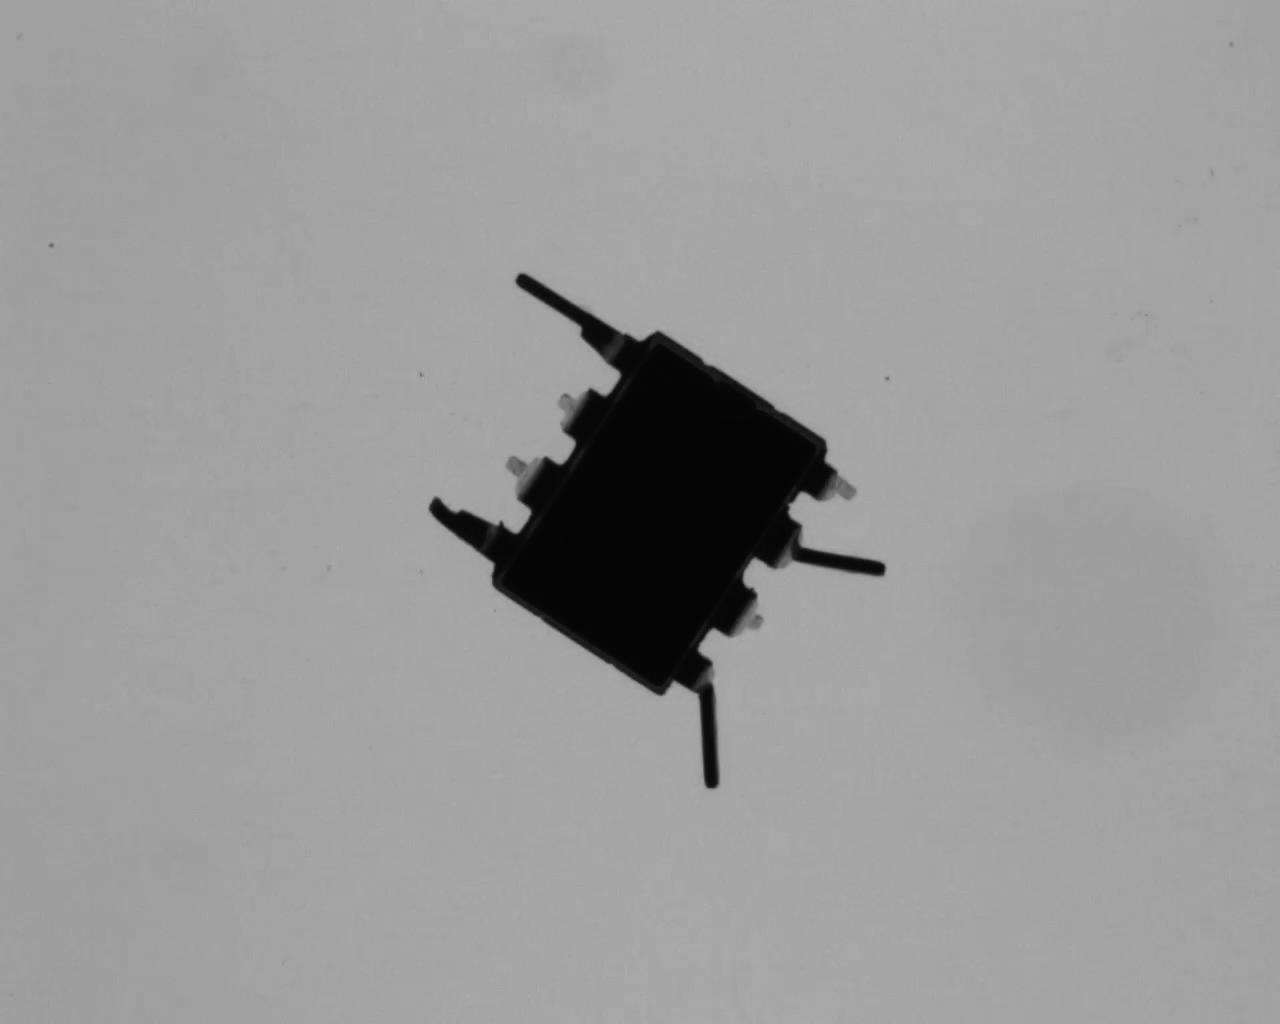Leg: (512, 267, 645, 376), (749, 511, 890, 577), (669, 647, 731, 790), (426, 491, 520, 573), (499, 447, 568, 514), (793, 448, 863, 511), (551, 388, 613, 443), (711, 583, 770, 639)
